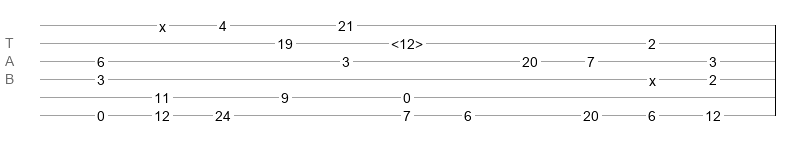0: (97, 108, 105, 118), (403, 90, 411, 100)
11: (154, 90, 170, 100)
12: (154, 108, 170, 118), (705, 108, 721, 118)
19: (277, 36, 293, 46)
2: (648, 36, 656, 46), (709, 72, 717, 82)
20: (522, 54, 538, 64), (583, 108, 599, 118)
21: (338, 18, 354, 28)
24: (215, 108, 231, 118)
3: (97, 72, 105, 82), (342, 54, 350, 64), (709, 54, 717, 64)
4: (219, 18, 227, 28)
6: (97, 54, 105, 64), (464, 108, 472, 118), (648, 108, 656, 118)
7: (403, 108, 411, 118), (587, 54, 595, 64)
9: (281, 90, 289, 100)
harmonic: (391, 36, 423, 46)
x: (159, 19, 166, 27), (649, 73, 656, 81)
